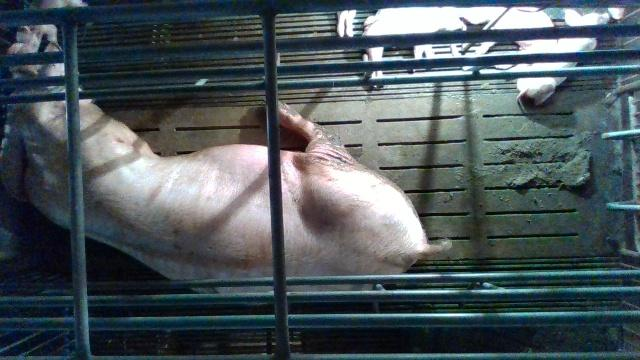piglet: (518, 9, 610, 105), (362, 7, 465, 77), (466, 5, 558, 72)
sow-sit: (0, 43, 451, 293)
